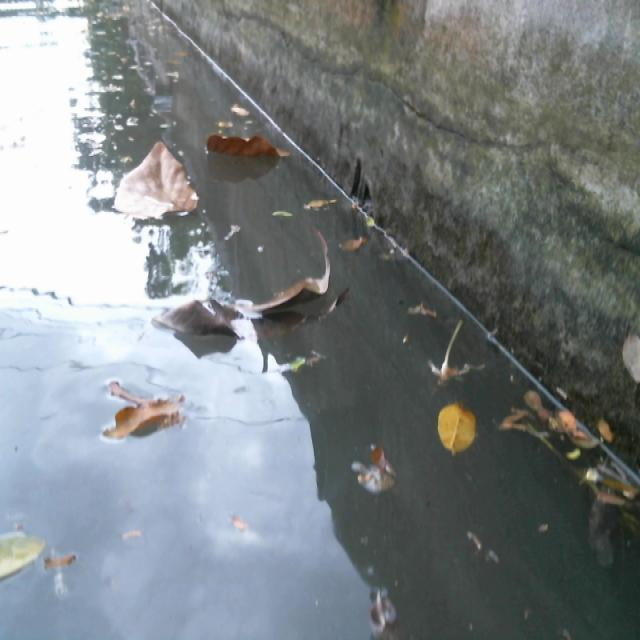Big-leaf: (152, 229, 341, 351), (91, 367, 203, 464), (110, 143, 205, 222), (198, 127, 296, 169)
Small-leaf: (428, 390, 494, 468), (347, 432, 397, 508), (521, 377, 562, 437), (0, 524, 40, 581), (370, 581, 409, 638), (220, 84, 263, 120), (329, 226, 373, 256), (268, 204, 307, 232), (218, 212, 246, 251), (50, 553, 92, 575), (305, 194, 349, 215), (594, 411, 618, 449), (411, 292, 438, 315), (562, 401, 578, 427)
